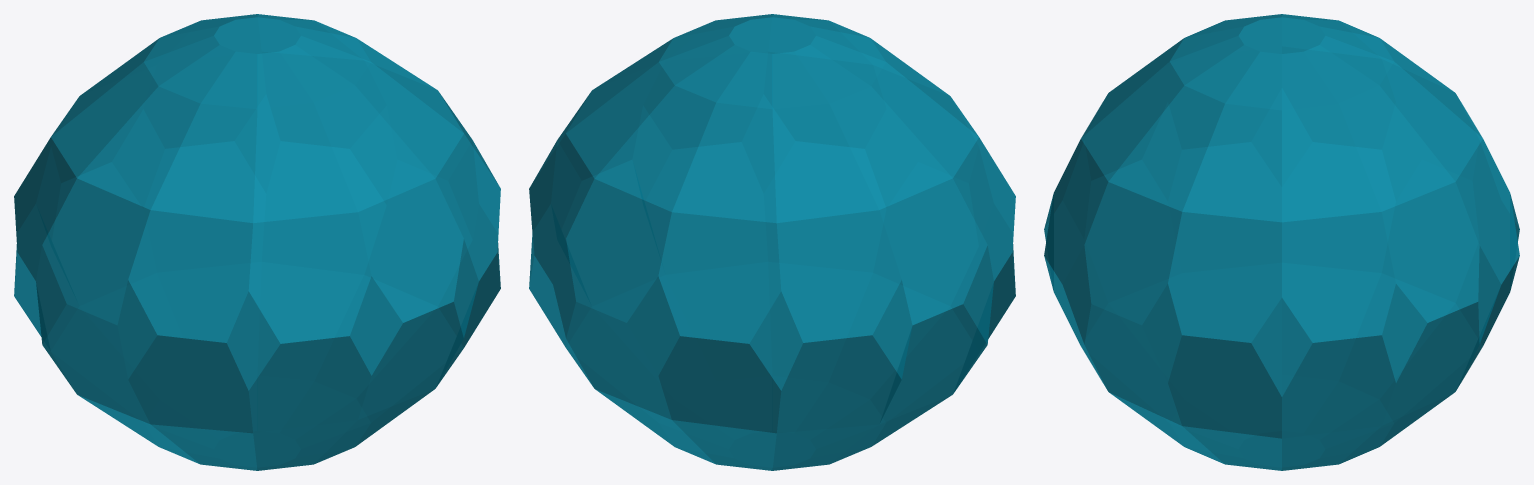
Rendered from GemE.fbx.
The picture shows the model from 3 angles, left to right: view 1: azimuth 30°, elevation 25°; view 2: azimuth 150°, elevation 25°; view 3: azimuth 270°, elevation 25°; orthographic projection.
Parts seen in each view (by area): view 1: GemE; view 2: GemE; view 3: GemE.
Boxes of the visible parts, bbox=[...] form: GemE: bbox=[14, 14, 500, 470]; GemE: bbox=[529, 14, 1015, 470]; GemE: bbox=[1044, 14, 1519, 470].
Bounding box in the file's own units: 8.07 × 7.41 × 7.73.
